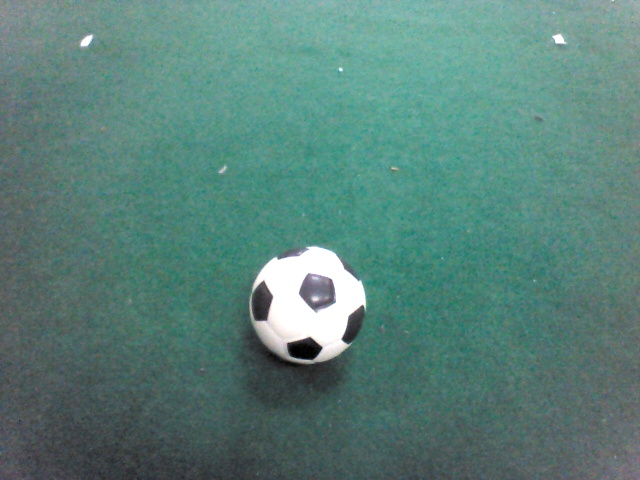ball: (247, 246, 367, 365)
